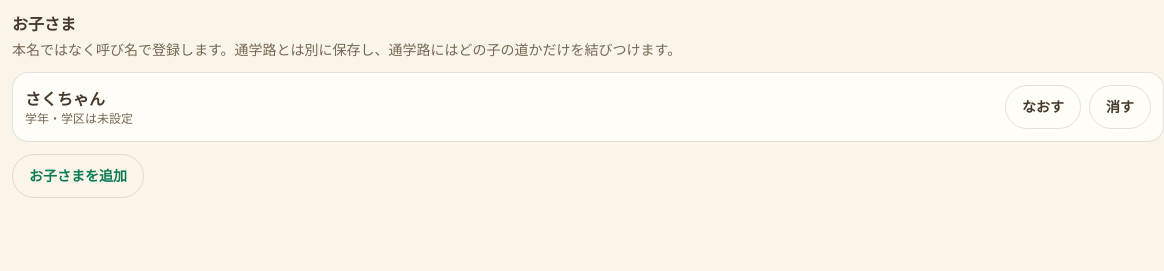
Scenario: ChildrenSettings(お子さまの登録) › 消せなかったときは「消せませんでした」と出す(「保存できませんでした」と言わない)
Click the button with aria-label "さくちゃんを消す": (1120, 107) x1=1089 y1=85 x2=1151 y2=129
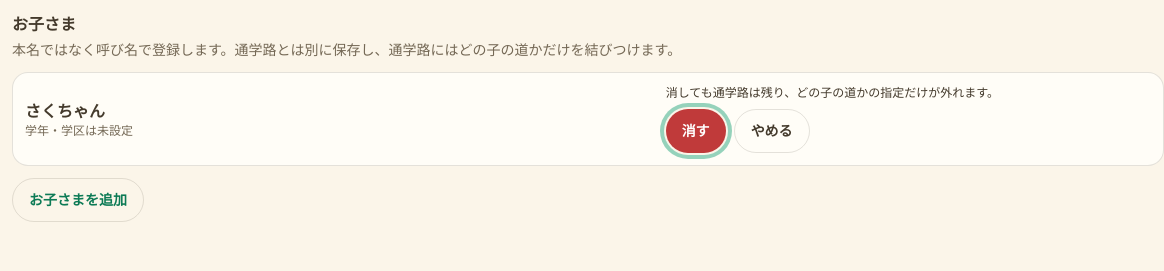
Click the button "消す": (696, 131) x1=666 y1=109 x2=726 y2=153
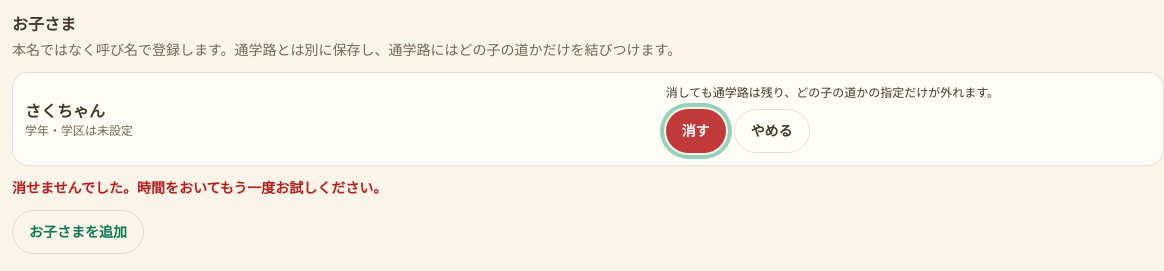
Now the text "消せませんでした。時間をおいてもう一度お試しください。" is shown, box x1=12 y1=178 x2=387 y2=197
